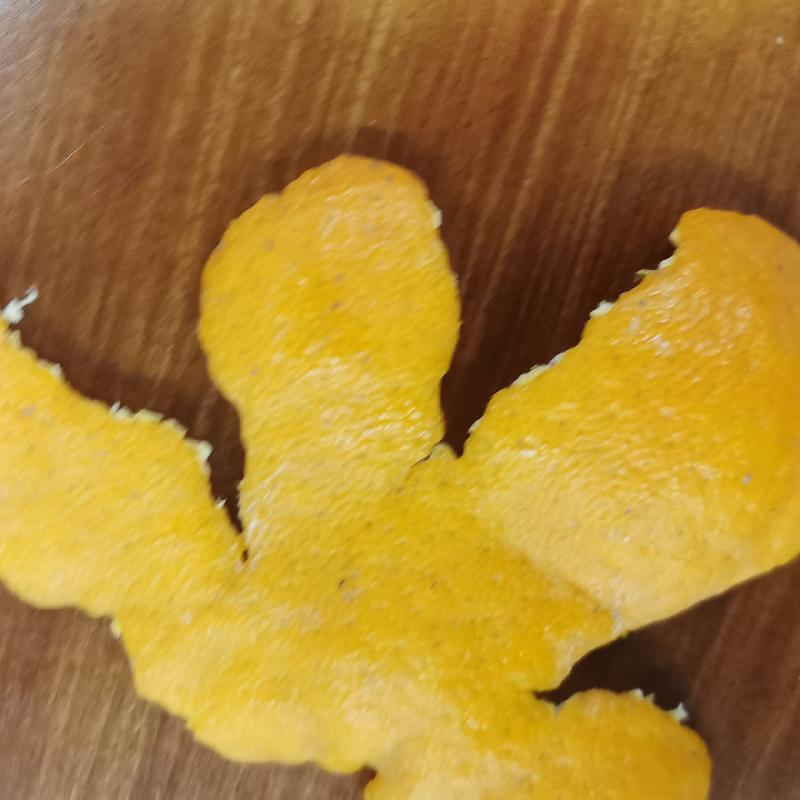orange: (12, 154, 799, 799)
